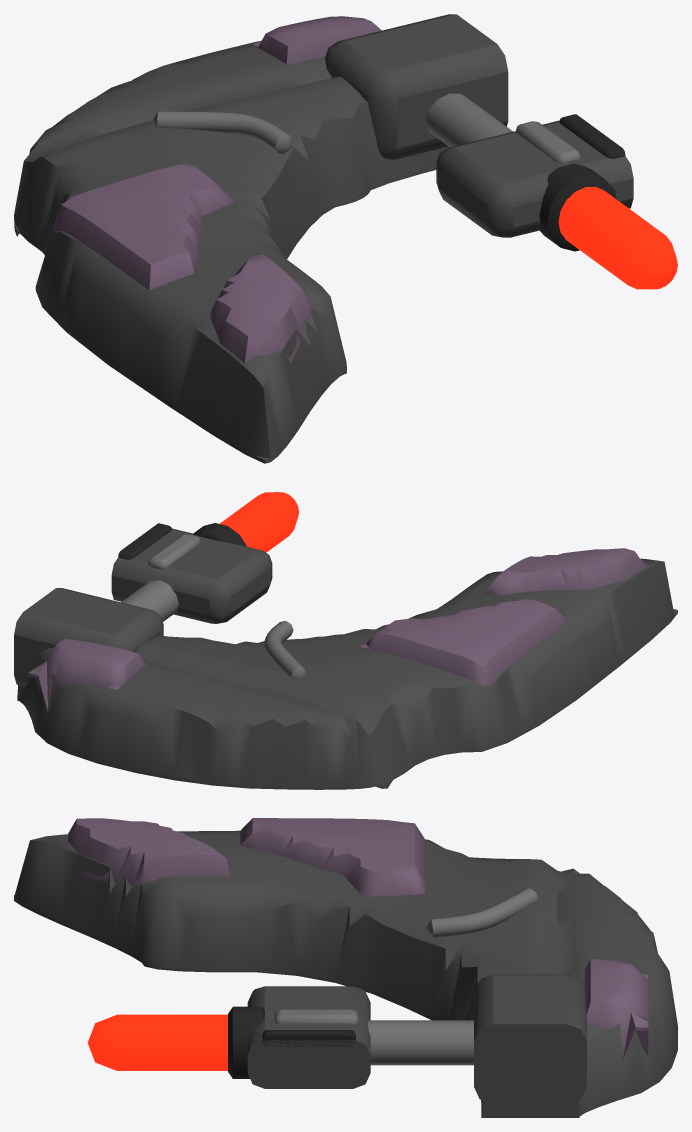
File: arch_left.glb
3 renders of one model, top to bottom at view 1: azimuth 30°, elevation 25°; view 2: azimuth 150°, elevation 25°; view 3: azimuth 270°, elevation 25°, orthographic. The views are drawn at different scales.
Visible parts, largest first — view 1: arms, hub, plate1, brace, thruster-1, plate2, plate0, rod-1, rib-1, collar-1, brace_light-1, brace_slot; view 2: arms, plate1, brace, hub, plate2, plate0, thruster-1, rod-1, rib-1, brace_light-1, brace_slot, collar-1; view 3: arms, hub, plate1, brace, thruster-1, plate2, rod-1, plate0, rib-1, collar-1, brace_slot, brace_light-1.
Boxes of the visible parts, x1=… form: arms: x1=14, y1=40, x2=449, y2=463; hub: x1=324, y1=14, x2=508, y2=159; plate1: x1=54, y1=163, x2=234, y2=290; brace: x1=436, y1=120, x2=633, y2=237; thruster-1: x1=558, y1=186, x2=677, y2=289; plate2: x1=209, y1=253, x2=312, y2=363; plate0: x1=251, y1=16, x2=381, y2=64; rod-1: x1=426, y1=93, x2=512, y2=146; rib-1: x1=151, y1=111, x2=292, y2=153; collar-1: x1=539, y1=163, x2=616, y2=251; brace_light-1: x1=516, y1=121, x2=580, y2=163; brace_slot: x1=559, y1=114, x2=625, y2=158; arms: x1=17, y1=558, x2=677, y2=789; plate1: x1=360, y1=599, x2=567, y2=711; brace: x1=111, y1=528, x2=272, y2=623; hub: x1=14, y1=588, x2=163, y2=686; plate2: x1=484, y1=548, x2=645, y2=595; plate0: x1=28, y1=638, x2=145, y2=713; thruster-1: x1=220, y1=492, x2=298, y2=552; rod-1: x1=121, y1=580, x2=178, y2=621; rib-1: x1=264, y1=620, x2=306, y2=679; brace_light-1: x1=148, y1=534, x2=200, y2=569; brace_slot: x1=118, y1=523, x2=171, y2=559; collar-1: x1=193, y1=523, x2=246, y2=546; arms: x1=14, y1=830, x2=677, y2=1117; hub: x1=474, y1=974, x2=586, y2=1104; plate1: x1=240, y1=818, x2=424, y2=897; brace: x1=247, y1=986, x2=370, y2=1088; thruster-1: x1=87, y1=1014, x2=227, y2=1070; plate2: x1=68, y1=818, x2=230, y2=886; rod-1: x1=367, y1=1020, x2=473, y2=1065; plate0: x1=584, y1=959, x2=648, y2=1061; rib-1: x1=425, y1=888, x2=538, y2=937; collar-1: x1=228, y1=1006, x2=264, y2=1078; brace_slot: x1=262, y1=1030, x2=355, y2=1046; brace_light-1: x1=274, y1=1009, x2=358, y2=1024.
Size of the model in its own units: 21.81 by 4.58 by 27.
